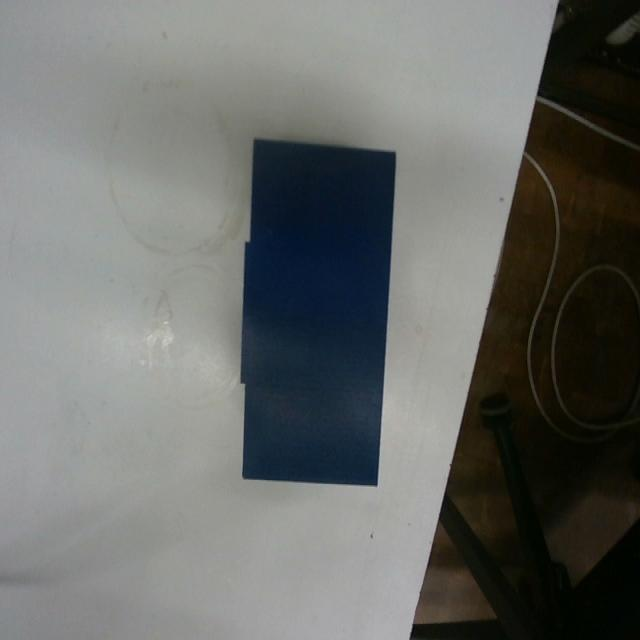Blue Cuboid: (238, 133, 397, 488)
